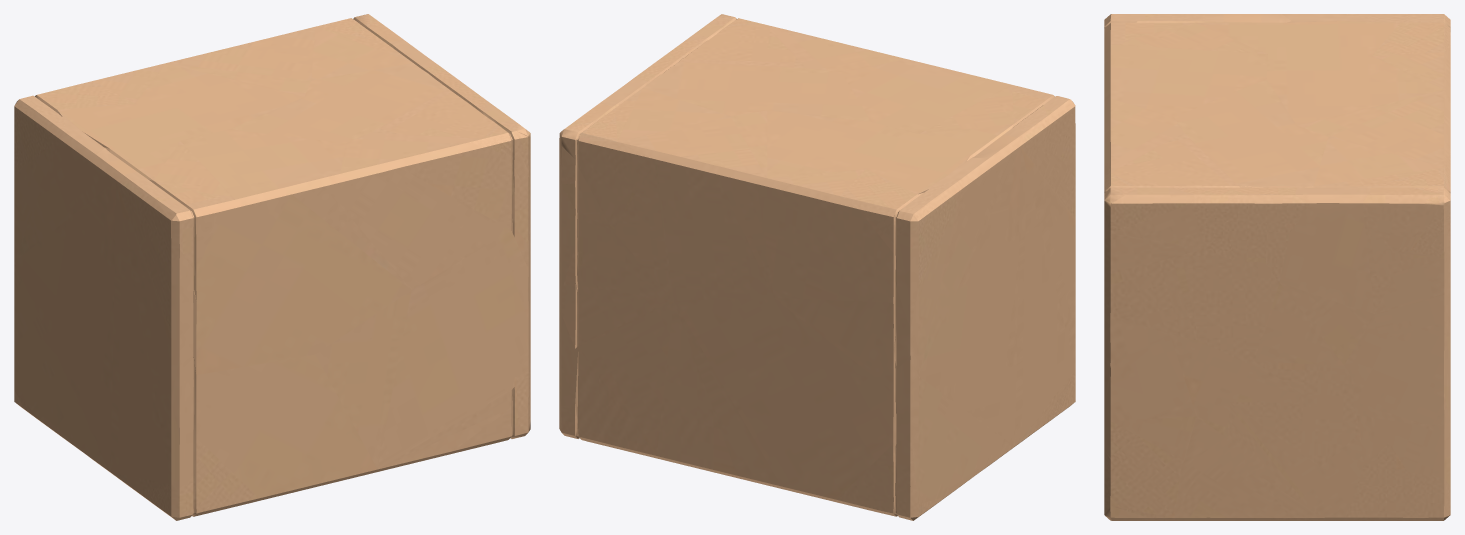
The model's file is block_pine.glb.
3 views of the same model, side by side, from view 1: azimuth 30°, elevation 25°; view 2: azimuth 150°, elevation 25°; view 3: azimuth 270°, elevation 25° (orthographic). The views are drawn at different scales.
Bounding box in the file's own units: 1.9 × 1.55 × 1.5.
Materials: 1 (1 with a texture image).
